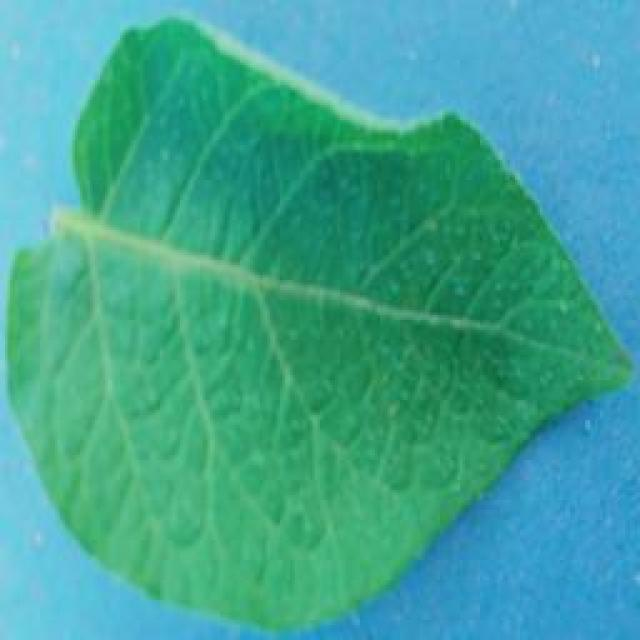Potato_Healthy: (9, 14, 624, 632)
